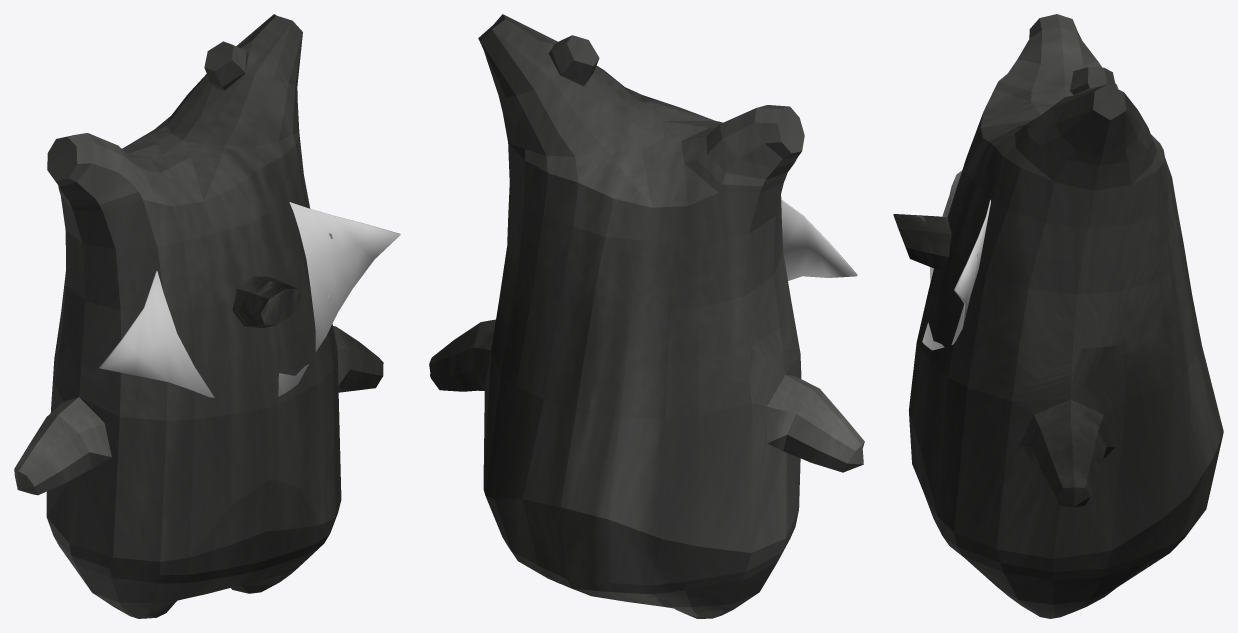
File: frame_0013.obj
3 views of the same model, side by side, from view 1: azimuth 30°, elevation 25°; view 2: azimuth 150°, elevation 25°; view 3: azimuth 270°, elevation 25° (orthographic). The views are drawn at different scales.
Parts seen in each view (by area): view 1: korok, leaf, nose; view 2: korok, leaf; view 3: korok, nose, leaf.
Boxes of the visible parts, box(x1,y1,x2,y2) form: korok: box(14, 14, 383, 618); leaf: box(99, 202, 400, 397); nose: box(232, 276, 300, 327); korok: box(429, 14, 864, 618); leaf: box(781, 199, 857, 280); korok: box(908, 14, 1223, 618); nose: box(893, 214, 951, 270); leaf: box(922, 171, 990, 350).
Bounding box in the file's own units: 1.69 × 2.28 × 1.22.
